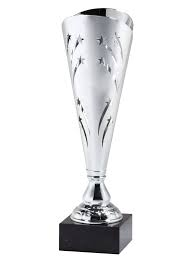trophy: (57, 6, 136, 254)
